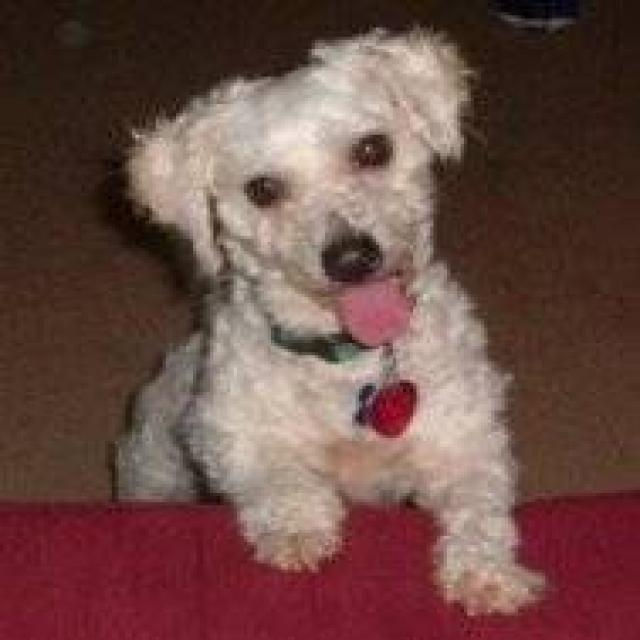Dog: (120, 18, 472, 353)
